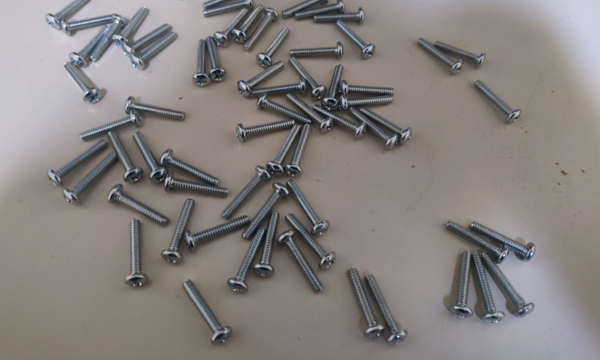longscrew: (284, 213, 338, 273), (280, 231, 328, 297), (49, 134, 107, 187), (484, 254, 532, 317), (178, 284, 228, 344), (105, 183, 170, 228), (284, 178, 331, 238), (369, 269, 406, 342), (344, 266, 381, 338), (448, 219, 509, 262), (65, 151, 117, 201), (162, 197, 200, 265), (474, 217, 535, 259), (242, 183, 286, 237), (474, 79, 524, 124), (229, 227, 263, 293), (346, 107, 397, 151), (361, 105, 412, 149), (224, 166, 267, 218), (162, 146, 222, 183), (186, 215, 249, 249), (80, 109, 144, 141), (312, 99, 364, 138), (107, 131, 143, 183), (476, 255, 502, 324), (132, 132, 165, 186), (130, 34, 179, 70), (449, 252, 474, 321), (420, 38, 463, 76), (235, 61, 283, 95), (289, 92, 330, 131), (69, 23, 106, 66), (266, 126, 299, 174), (127, 216, 148, 291), (122, 25, 174, 55), (259, 95, 311, 125), (159, 174, 228, 196), (112, 5, 148, 47), (126, 99, 188, 123), (430, 40, 488, 65), (62, 64, 100, 102), (214, 6, 251, 45), (231, 3, 268, 42), (243, 8, 280, 47), (92, 15, 122, 63), (337, 21, 375, 58), (258, 27, 294, 66), (289, 57, 323, 98), (235, 119, 300, 140), (260, 211, 279, 282), (60, 12, 118, 34), (48, 0, 89, 30), (287, 127, 311, 178), (203, 0, 256, 21), (297, 0, 348, 20), (193, 41, 211, 92), (207, 36, 225, 87), (326, 61, 344, 109), (312, 9, 368, 24), (249, 83, 308, 97), (339, 95, 399, 108), (282, 0, 326, 17), (339, 83, 399, 95), (286, 45, 350, 56), (202, 0, 255, 8)
